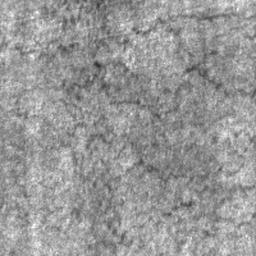Crazing: (0, 6, 256, 122), (96, 157, 255, 248), (16, 110, 113, 184), (154, 200, 252, 234), (39, 206, 63, 225), (70, 199, 85, 220)
